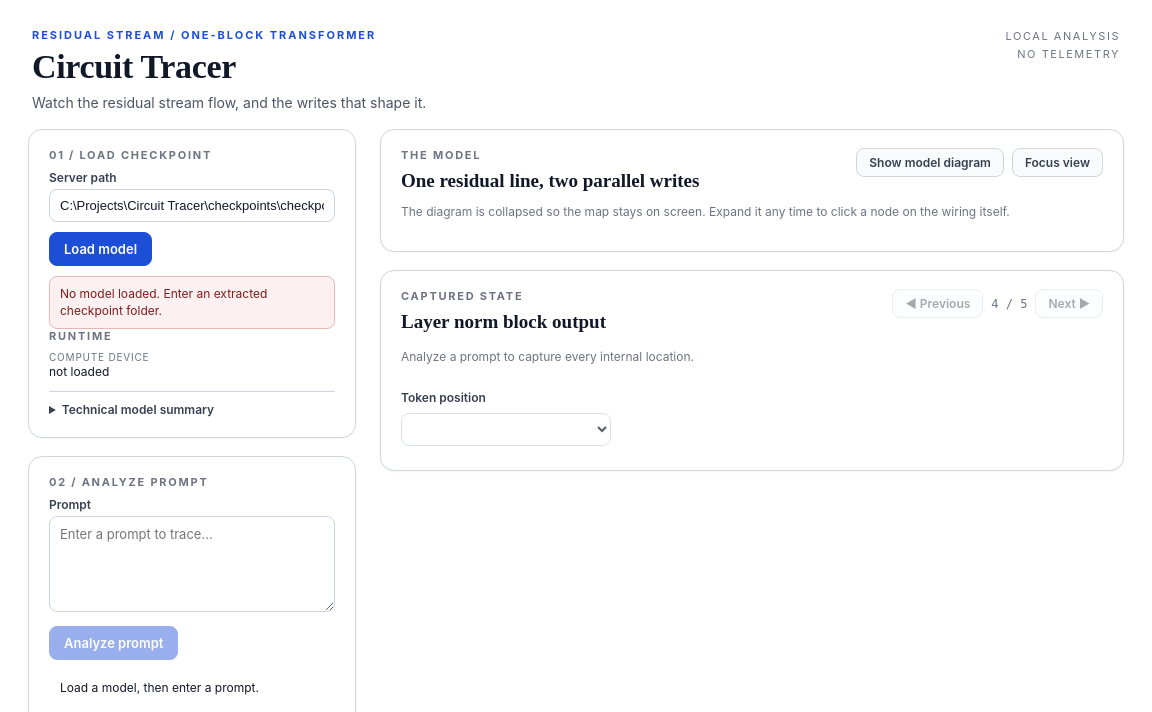
App › steps to the next node in the trace
The width and height of the screenshot is (1152, 712).
Type "hello ," into the text box labelled "Prompt".
click(192, 564); type("hello ,")  # box [49,516,335,612]
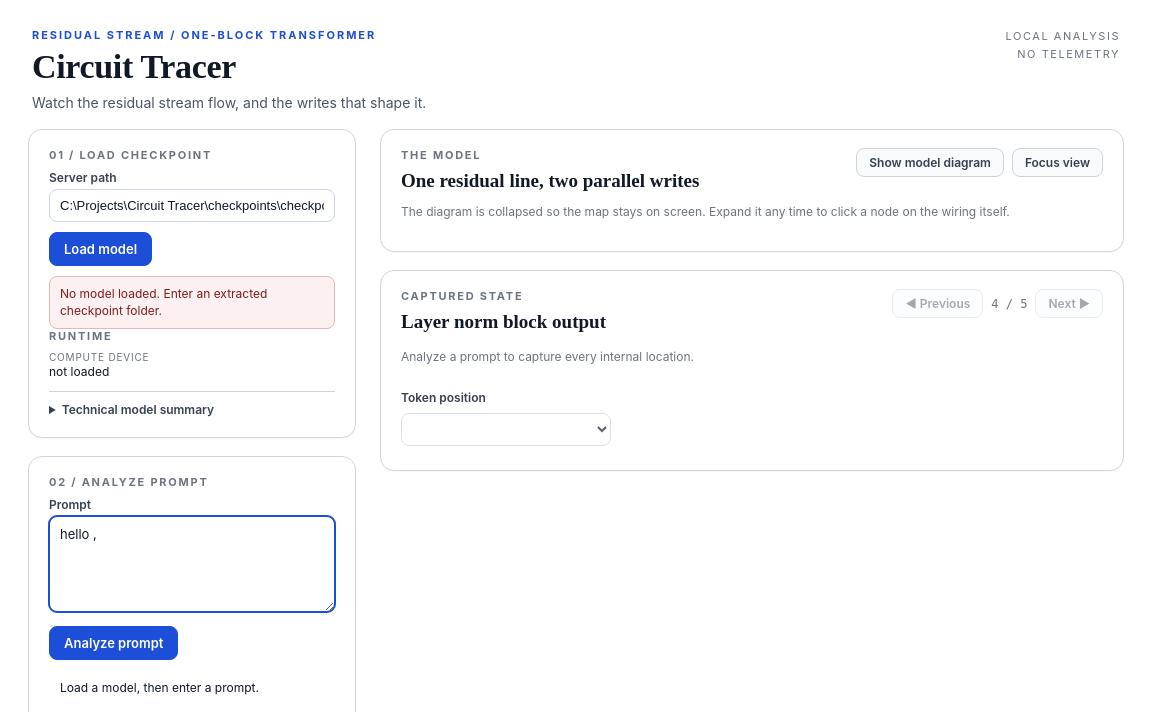
Click the button "Analyze prompt".
click(114, 643)  # box [49,626,178,660]
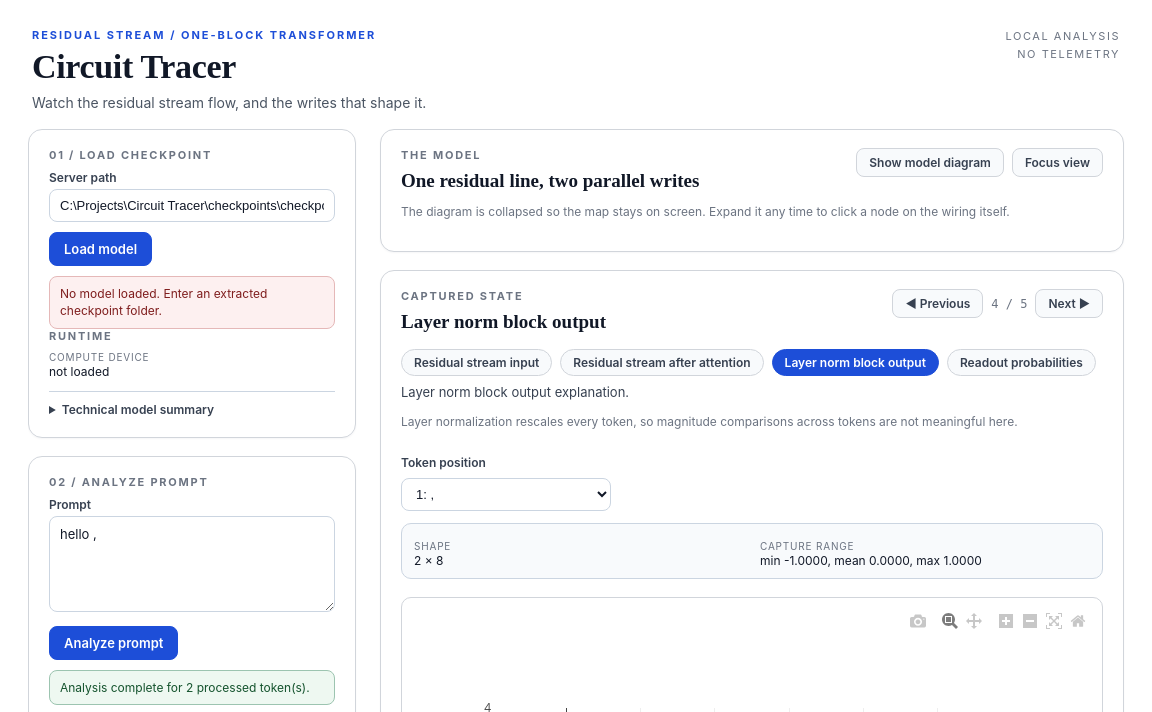
Expected: the heading with test id "node-label" reads "Layer norm block output", [401,311,606,332]
Click the button with aria-label "next node in the stream".
click(1069, 304)  # box [1036,289,1103,318]
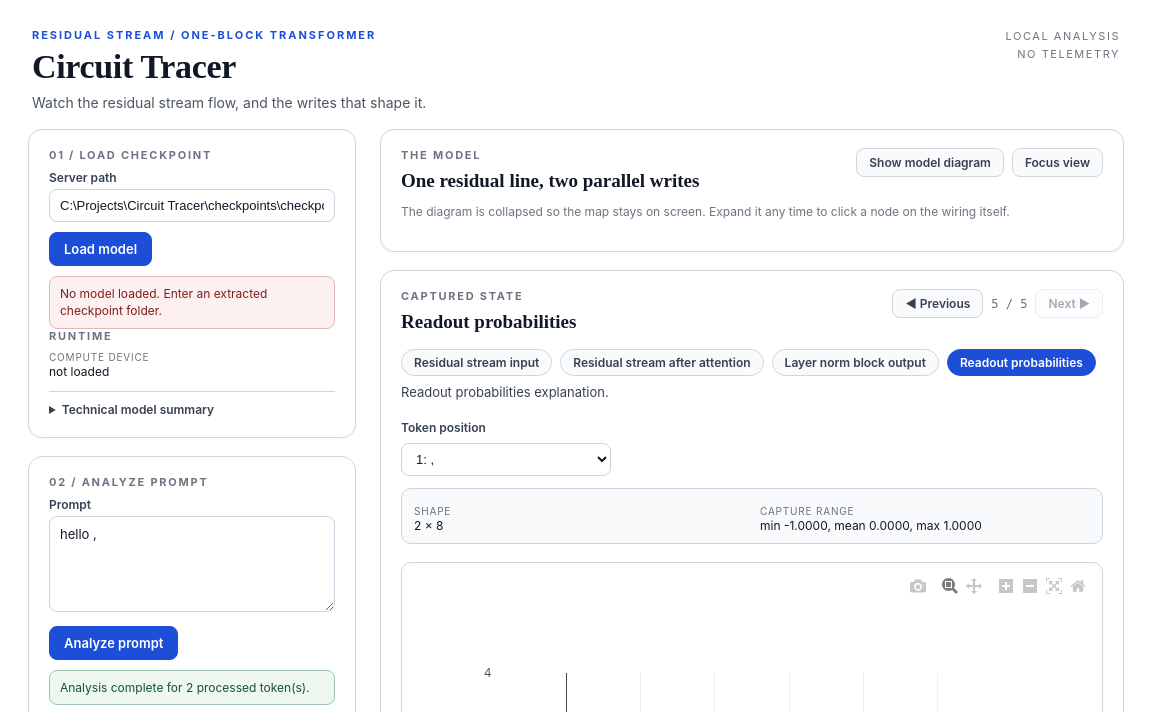
Result: the heading with test id "node-label" reads "Readout probabilities" at [401,311,576,332]
